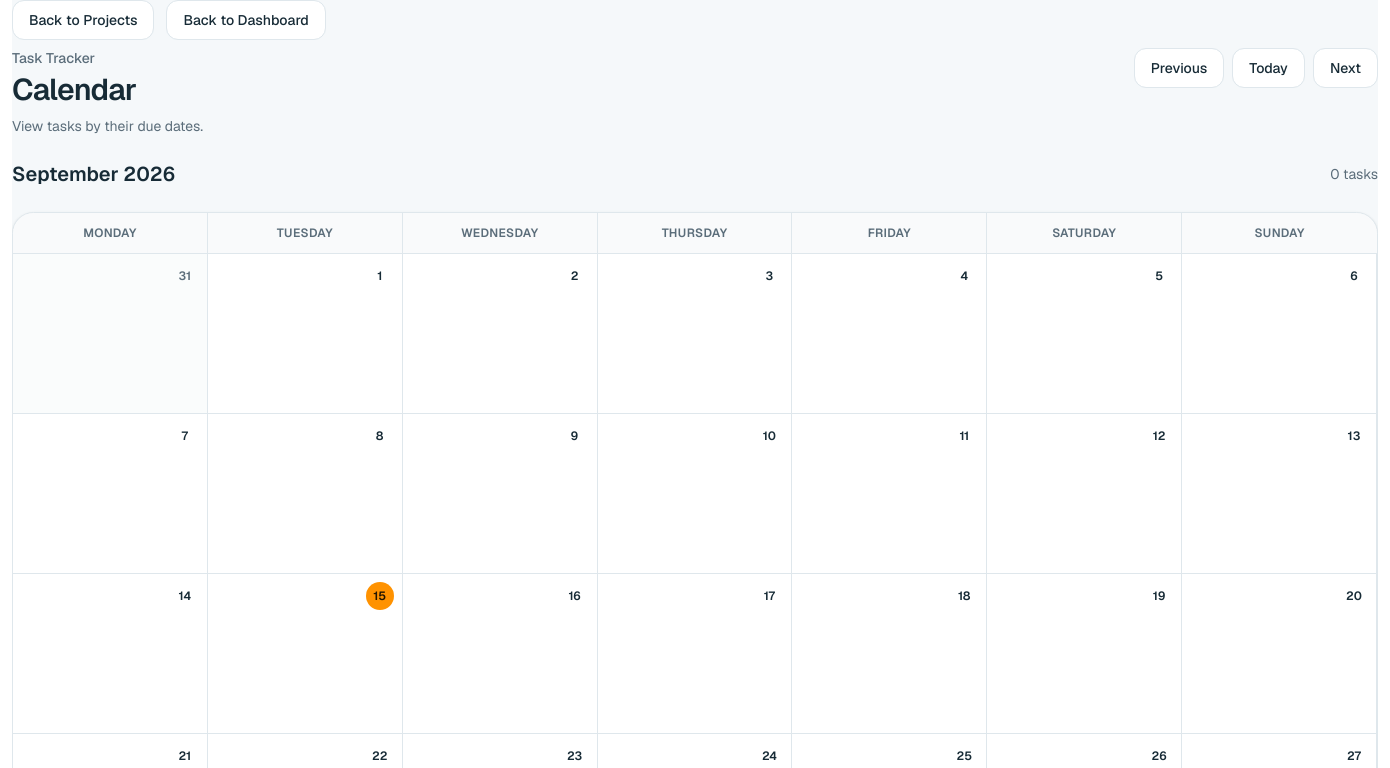
it: CalendarView › navigates to the previous month
Click the button "Previous" at coordinates (1179, 68), box [1134,48,1224,88]
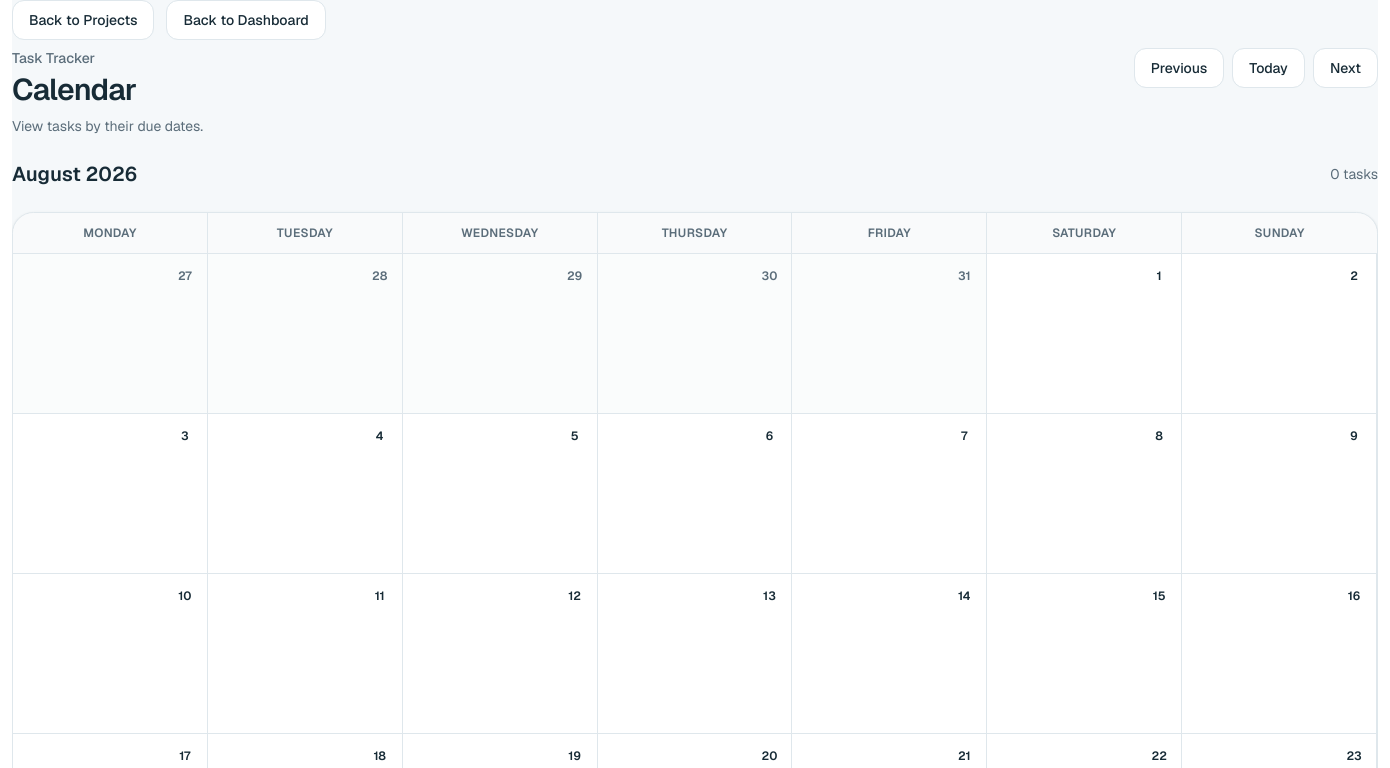
Now the heading "August 2026" is shown, box [12,160,137,188]
